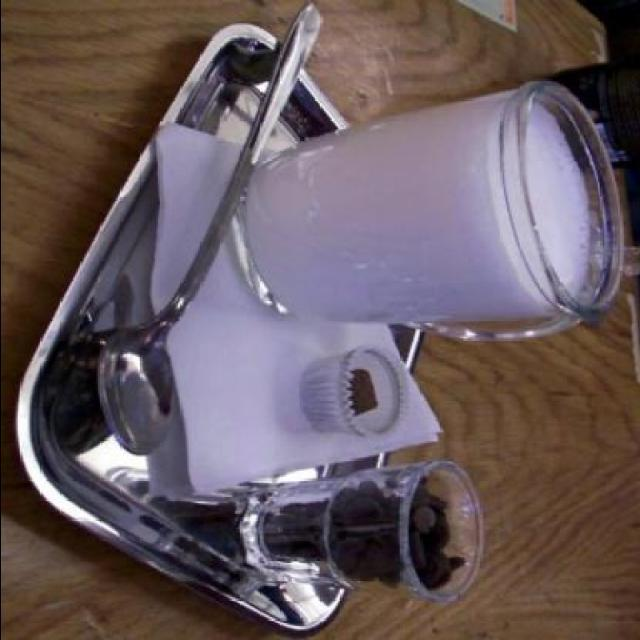Milk: (234, 54, 616, 346)
